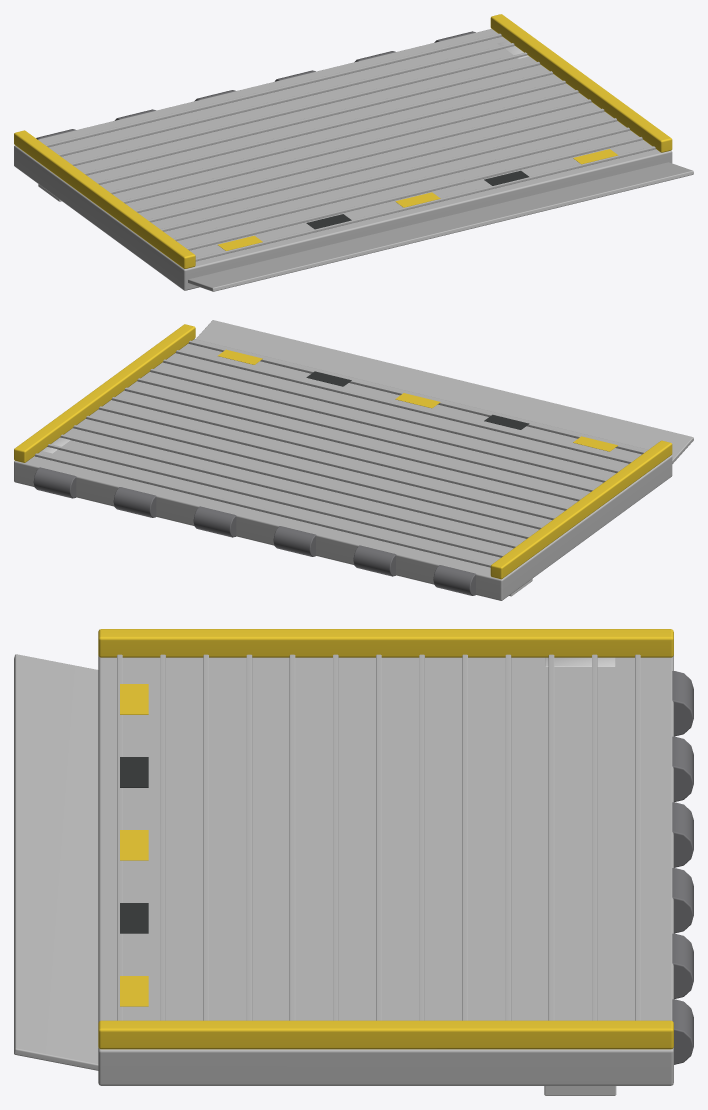
Rendered from water.ferry.ramp.glb.
3 views of the same model, one above another, from view 1: azimuth 30°, elevation 25°; view 2: azimuth 150°, elevation 25°; view 3: azimuth 270°, elevation 25° (orthographic). The views are drawn at different scales.
Visible parts, largest first — view 1: main__steel_bbb, main__paint_ec3, main__paint_333, main__galv_777; view 2: main__steel_bbb, main__paint_ec3, main__galv_777, main__paint_333; view 3: main__steel_bbb, main__paint_ec3, main__galv_777, main__paint_333, main__galv_ccc.
Boxes of the visible parts, x1=… form: main__steel_bbb: x1=14, y1=29, x2=693, y2=291; main__paint_ec3: x1=14, y1=14, x2=672, y2=268; main__paint_333: x1=306, y1=170, x2=528, y2=229; main__galv_777: x1=36, y1=31, x2=475, y2=139; main__steel_bbb: x1=14, y1=320, x2=693, y2=600; main__paint_ec3: x1=14, y1=324, x2=672, y2=579; main__galv_777: x1=33, y1=467, x2=476, y2=595; main__paint_333: x1=306, y1=371, x2=529, y2=429; main__steel_bbb: x1=14, y1=654, x2=673, y2=1085; main__paint_ec3: x1=98, y1=629, x2=673, y2=1049; main__galv_777: x1=672, y1=671, x2=693, y2=1064; main__paint_333: x1=120, y1=757, x2=148, y2=933; main__galv_ccc: x1=544, y1=657, x2=616, y2=1095.
Bounding box in the file's own units: 6.6 × 0.56 × 4.73.
